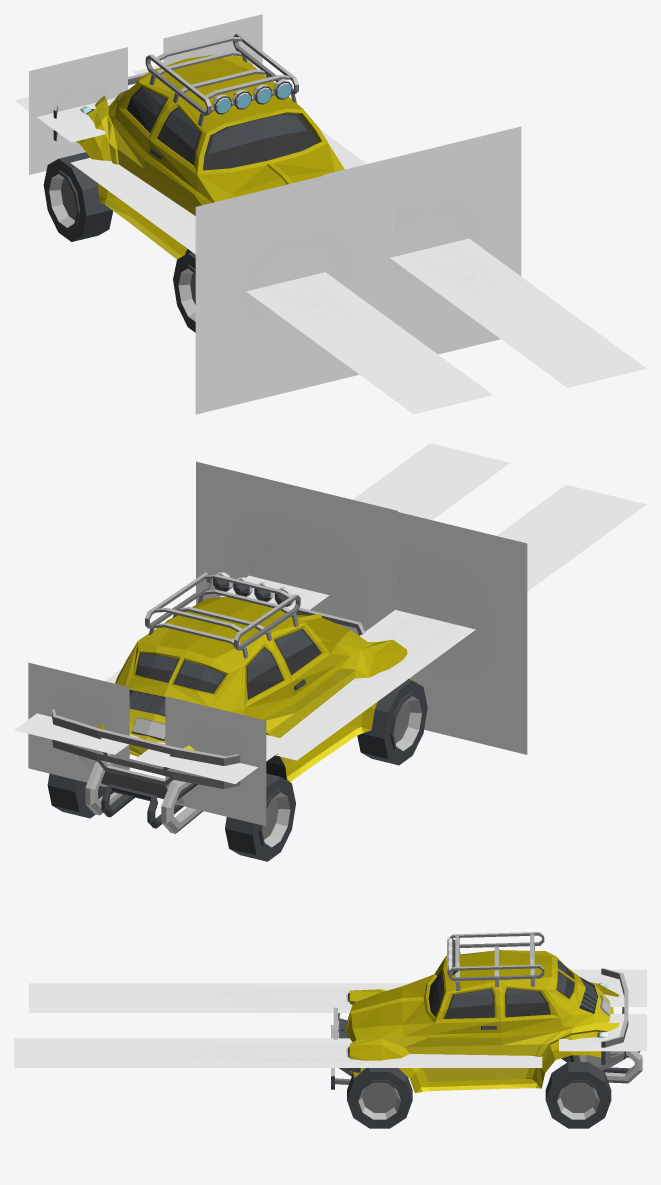
The model's file is DesertBuggy.fbx.
3 views of the same model, one above another, from view 1: azimuth 30°, elevation 25°; view 2: azimuth 150°, elevation 25°; view 3: azimuth 270°, elevation 25° (orthographic). The views are drawn at different scales.
Parts seen in each view (by area): view 1: StopLightBillboard (×7), BodyMesh, Wheel (×2); view 2: StopLightBillboard (×8), BodyMesh, Wheel (×3); view 3: BodyMesh, StopLightBillboard (×4), Wheel (×2).
Boxes of the visible parts, bbox=[...] form: StopLightBillboard (×7): bbox=[14, 14, 646, 414]; BodyMesh: bbox=[53, 33, 344, 259]; Wheel (×2): bbox=[43, 152, 195, 332]; StopLightBillboard (×8): bbox=[14, 443, 646, 826]; BodyMesh: bbox=[52, 572, 411, 833]; Wheel (×3): bbox=[47, 679, 427, 861]; BodyMesh: bbox=[331, 932, 642, 1093]; StopLightBillboard (×4): bbox=[14, 969, 646, 1067]; Wheel (×2): bbox=[347, 1062, 611, 1128].
Size of the model in its own units: 1.64 by 1.02 by 3.59.
3 materials, 3 textured.
